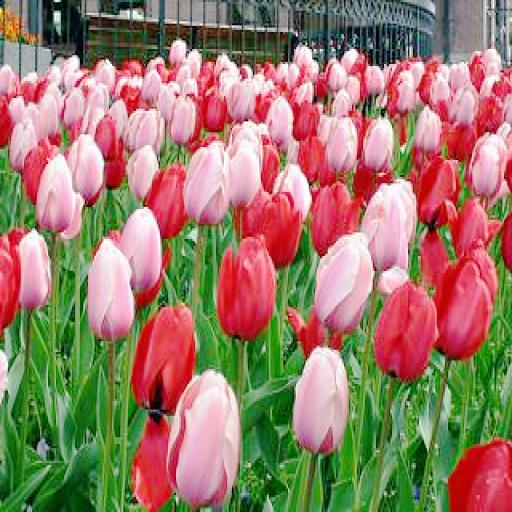tulip: (166, 371, 242, 508), (435, 241, 496, 356), (130, 305, 195, 410), (291, 346, 352, 454), (214, 235, 276, 341), (374, 279, 437, 382), (315, 228, 373, 329), (85, 239, 134, 341), (238, 188, 302, 262), (182, 141, 234, 226), (308, 179, 358, 252), (37, 154, 75, 236), (18, 228, 52, 314)
